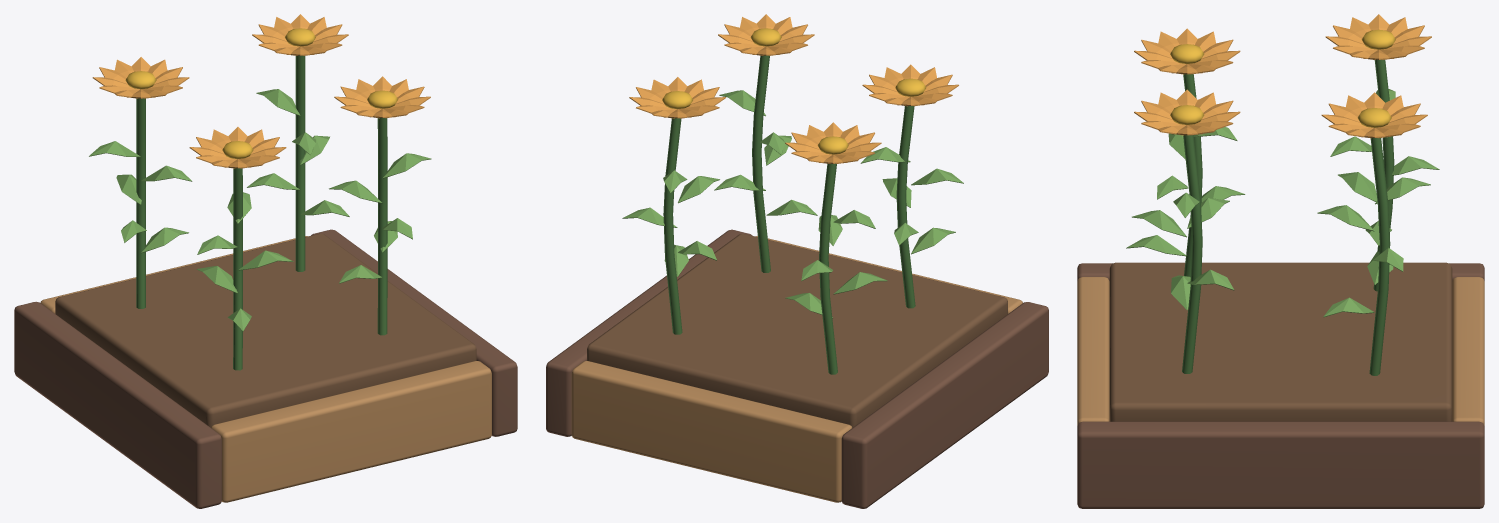
The model's file is garden.flower.calendula-new.glb.
3 renders of one model, left to right at view 1: azimuth 30°, elevation 25°; view 2: azimuth 150°, elevation 25°; view 3: azimuth 270°, elevation 25°, orthographic. The views are drawn at different scales.
Parts seen in each view (by area): view 1: Cedar raised bed rail; view 2: Cedar raised bed rail; view 3: Cedar raised bed rail.
Part boxes in pixels (<box>): Cedar raised bed rail: <box>14,14,517,508</box>; Cedar raised bed rail: <box>546,14,1048,508</box>; Cedar raised bed rail: <box>1077,14,1484,508</box>.
Bounding box in the file's own units: 1 × 0.9658 × 1.
